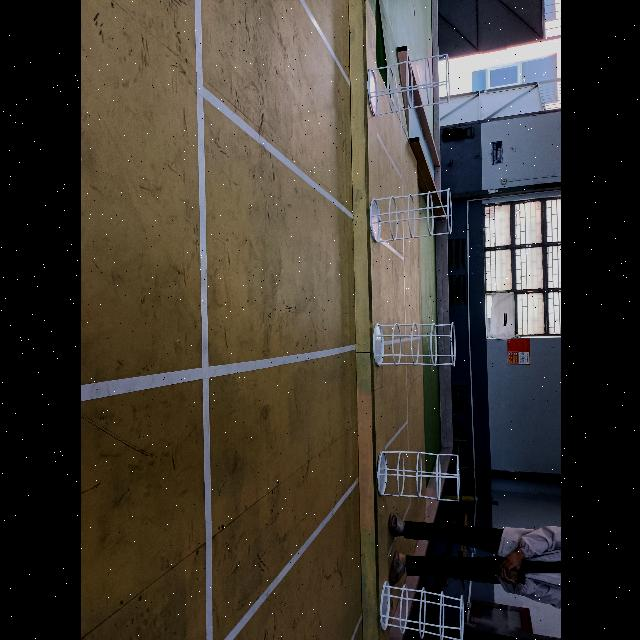S: (366, 52, 449, 117), (378, 580, 464, 640), (367, 188, 454, 245), (375, 450, 460, 503), (370, 322, 457, 368)
